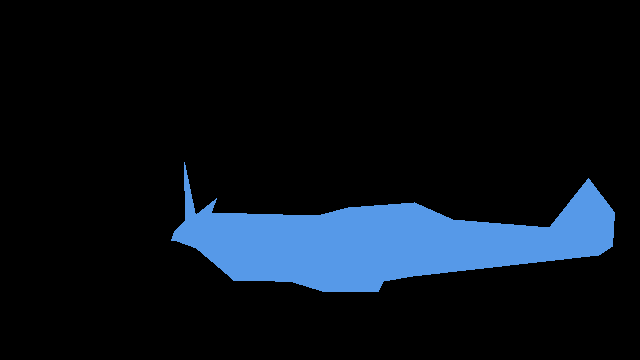Airplane: (171, 162, 615, 291)
